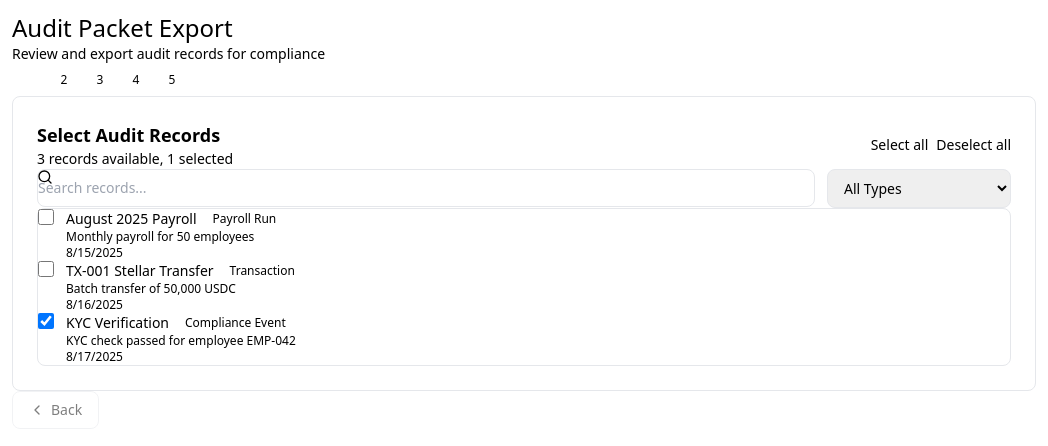
AuditExportWizard › selects all entries
The width and height of the screenshot is (1048, 446).
Click the button "Select all". click: point(900, 145)
box: [871,135,928,155]
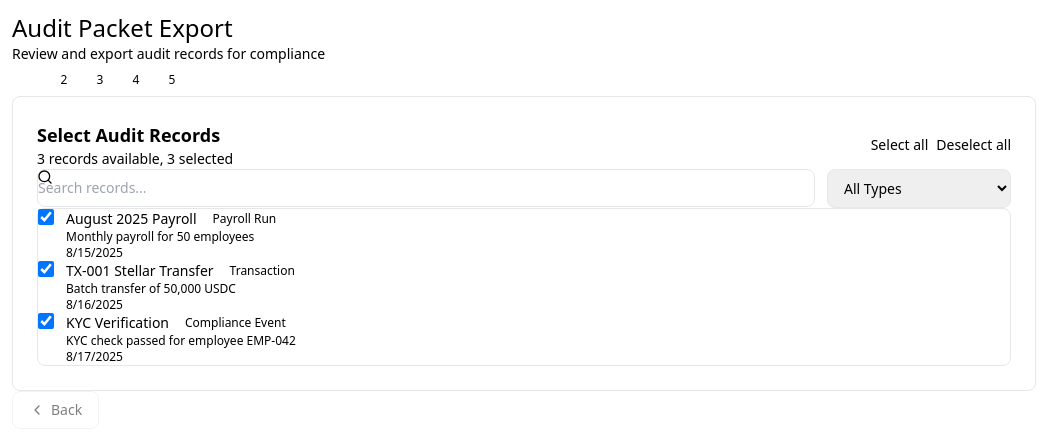
Check: the text "3 records available, 3 selected" is shown, box [37,149,233,169]
